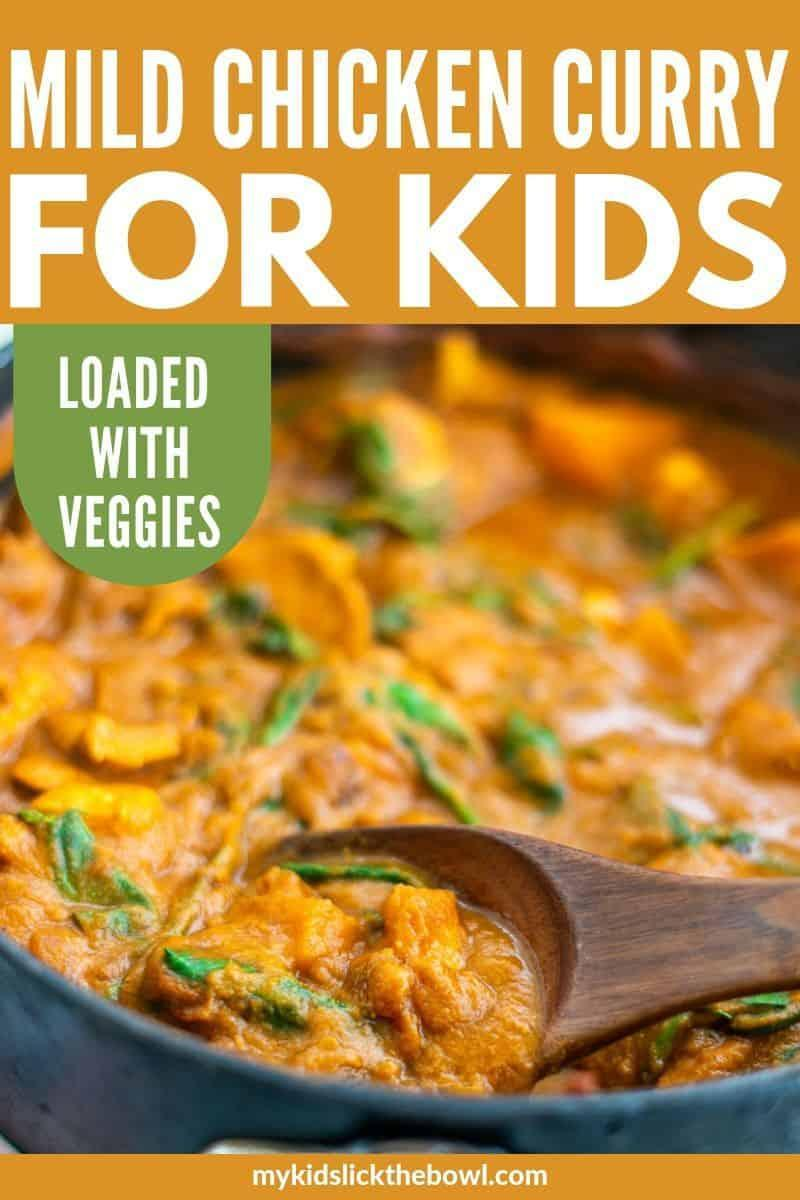chicken: (40, 458, 800, 1083)
